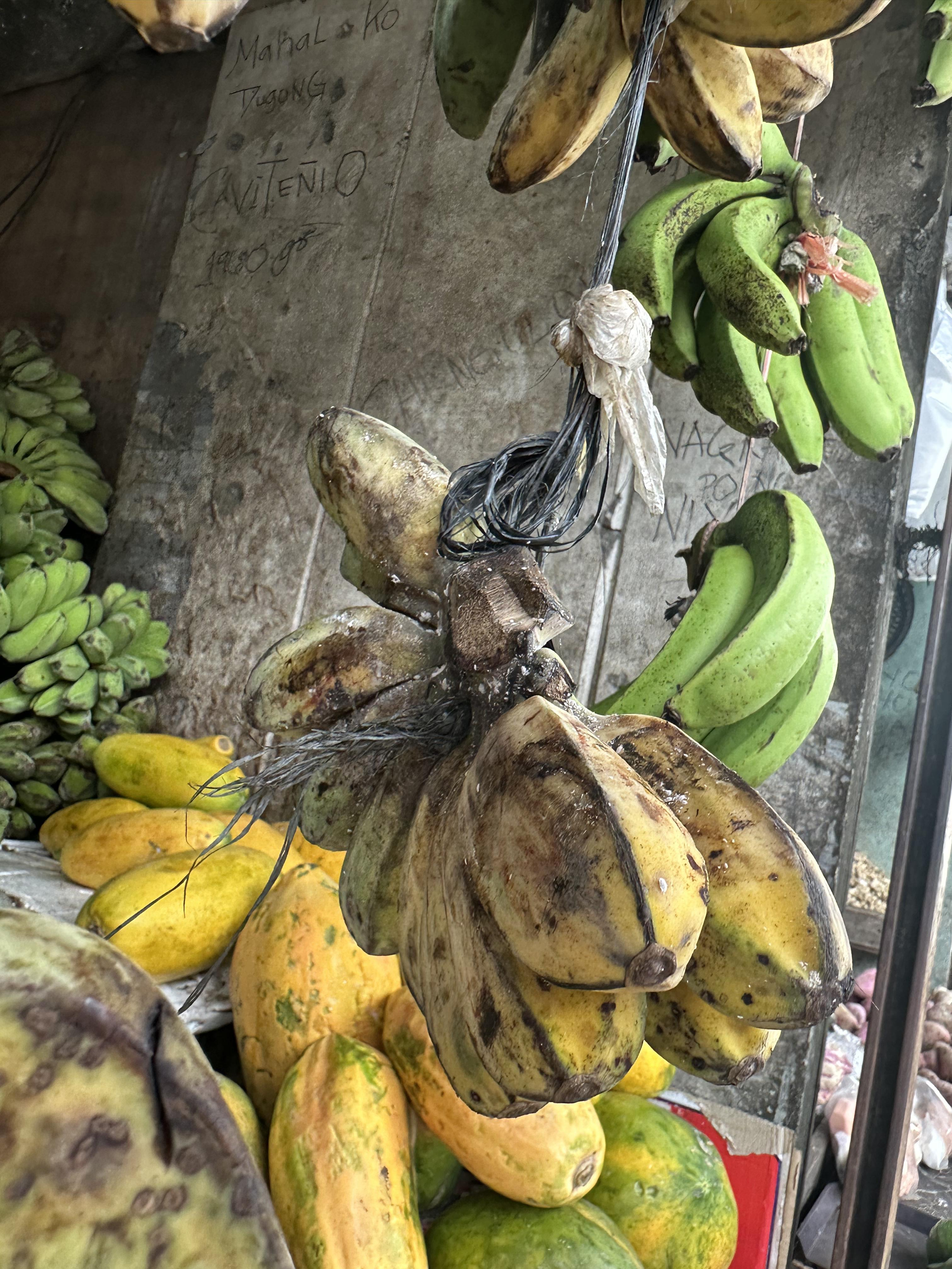ripe: (485, 0, 897, 195)
underripe: (296, 696, 855, 1117)
